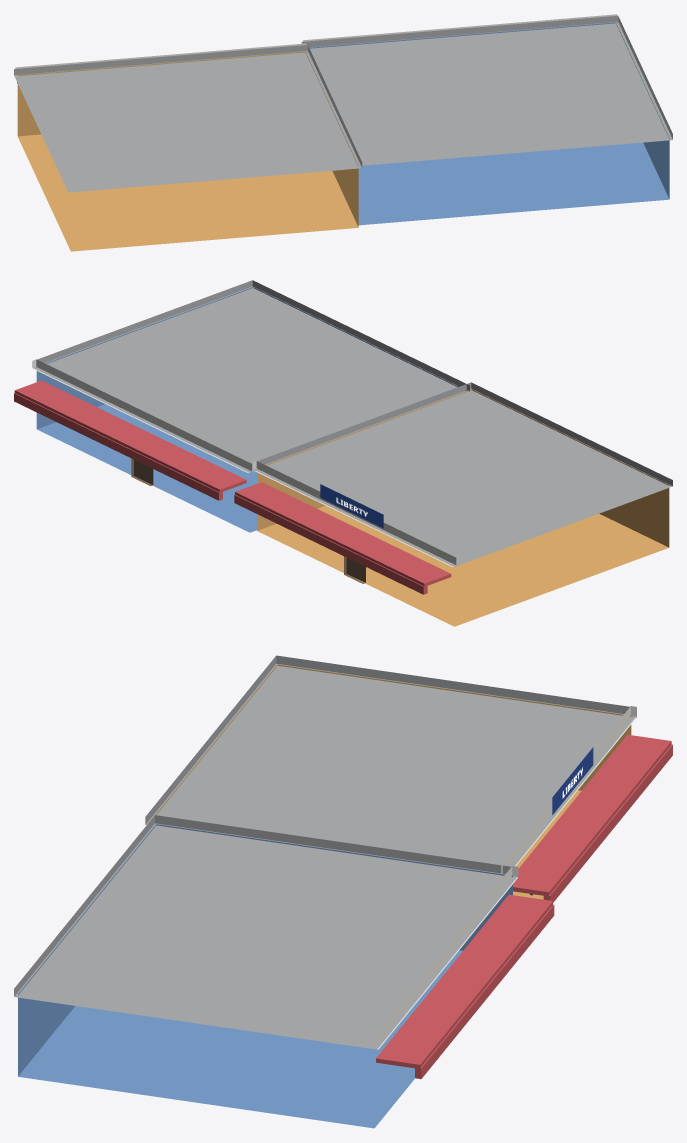
File: snmain_liberty.glb
3 renders of one model, top to bottom at view 1: azimuth 30°, elevation 25°; view 2: azimuth 150°, elevation 25°; view 3: azimuth 270°, elevation 25°, orthographic. The views are drawn at different scales.
Parts seen in each view (by area): view 1: snmain_liberty_lod0; view 2: snmain_liberty_lod0; view 3: snmain_liberty_lod0.
Part boxes in pixels (bbox=[...]): snmain_liberty_lod0: bbox=[14, 14, 672, 251]; snmain_liberty_lod0: bbox=[14, 280, 672, 626]; snmain_liberty_lod0: bbox=[14, 655, 672, 1128].
Size of what is drawn, in the model's own units: 33.28 by 4.25 by 23.96.
8 materials, 1 textured.
